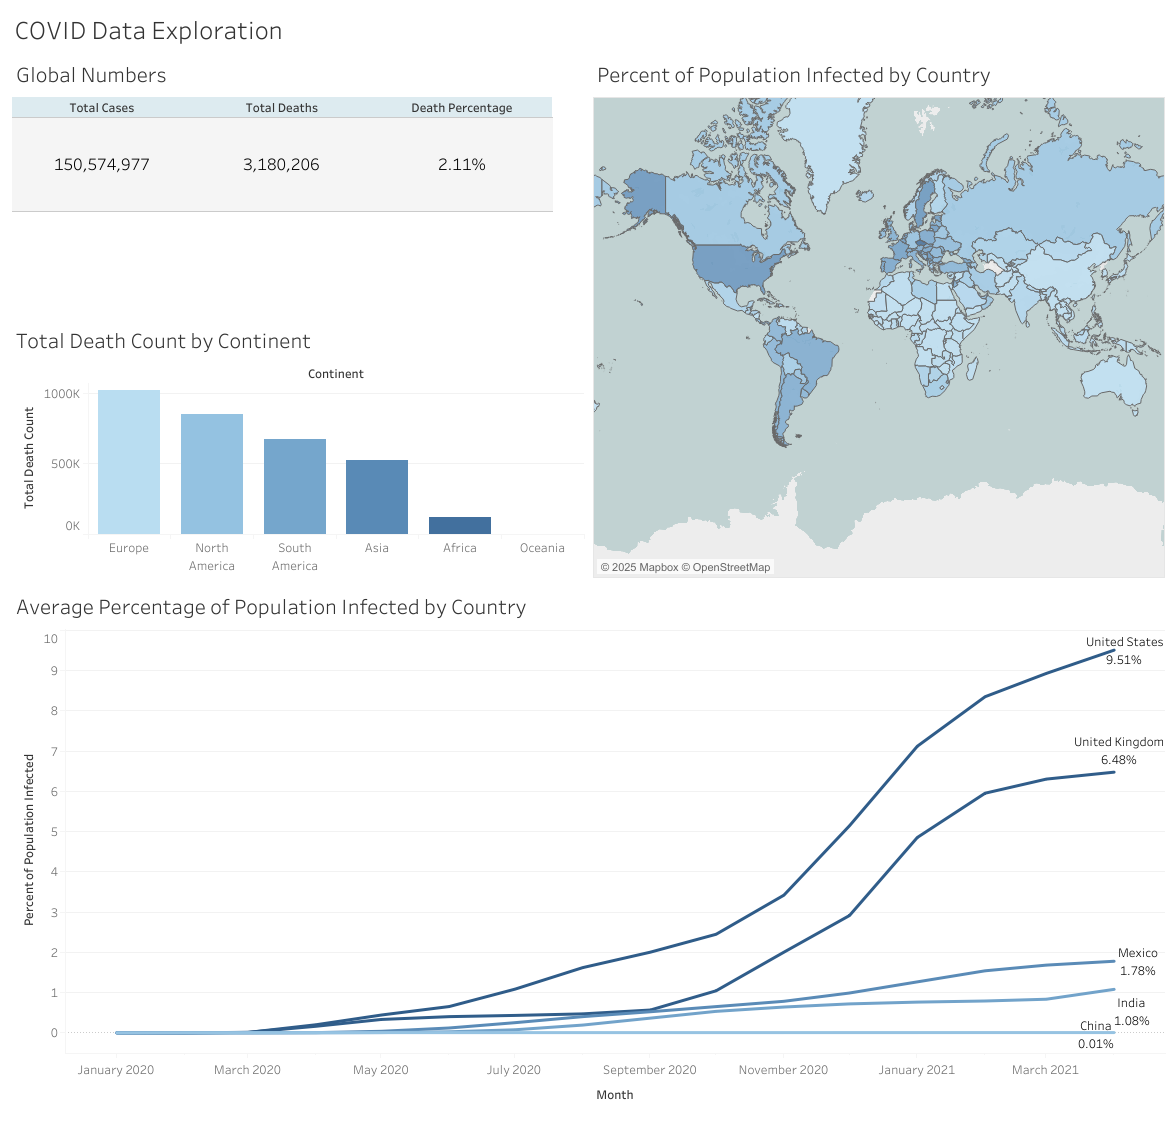

The page's visual inventory and layout, read from the dashboard file:
{"tool":"tableau","page":{"name":"COVID Data Exploration","canvas":[1000,1000],"units":"permille","ordinal":0},"visuals":[{"type":"title","box":[3.4,6.6,993.2,34.5]},{"type":"worksheet","title":"Total Cases","mark":"Automatic","box":[3.4,41.1,496.6,238.1]},{"type":"worksheet","title":"Percent of Population Infected by Country","mark":"Automatic","box":[500,41.1,496.6,476.2]},{"type":"worksheet","title":"Total Death Count by Continent","mark":"Automatic","rows":["total_death_count"],"cols":["location"],"box":[3.4,279.2,496.6,238.1]},{"type":"worksheet","title":"Average Percentage of Population Infected by Country","mark":"Automatic","rows":["percent_population_infected"],"cols":["date"],"box":[3.4,517.3,993.2,476.2]}]}

Visuals, with their boxes on the dashboard's canvas, which has no fixed pixel size, in thousandths of its width and height (x1, y1, x2, y2). These are canvas units, not pixel positions in the 1176x1121 screenshot, which may show the page scaled, cropped or inside an application window:
title: [left=3, top=7, right=997, bottom=41]
"Total Cases" worksheet: [left=3, top=41, right=500, bottom=279]
"Percent of Population Infected by Country" worksheet: [left=500, top=41, right=997, bottom=517]
"Total Death Count by Continent" worksheet: [left=3, top=279, right=500, bottom=517]
"Average Percentage of Population Infected by Country" worksheet: [left=3, top=517, right=997, bottom=994]
